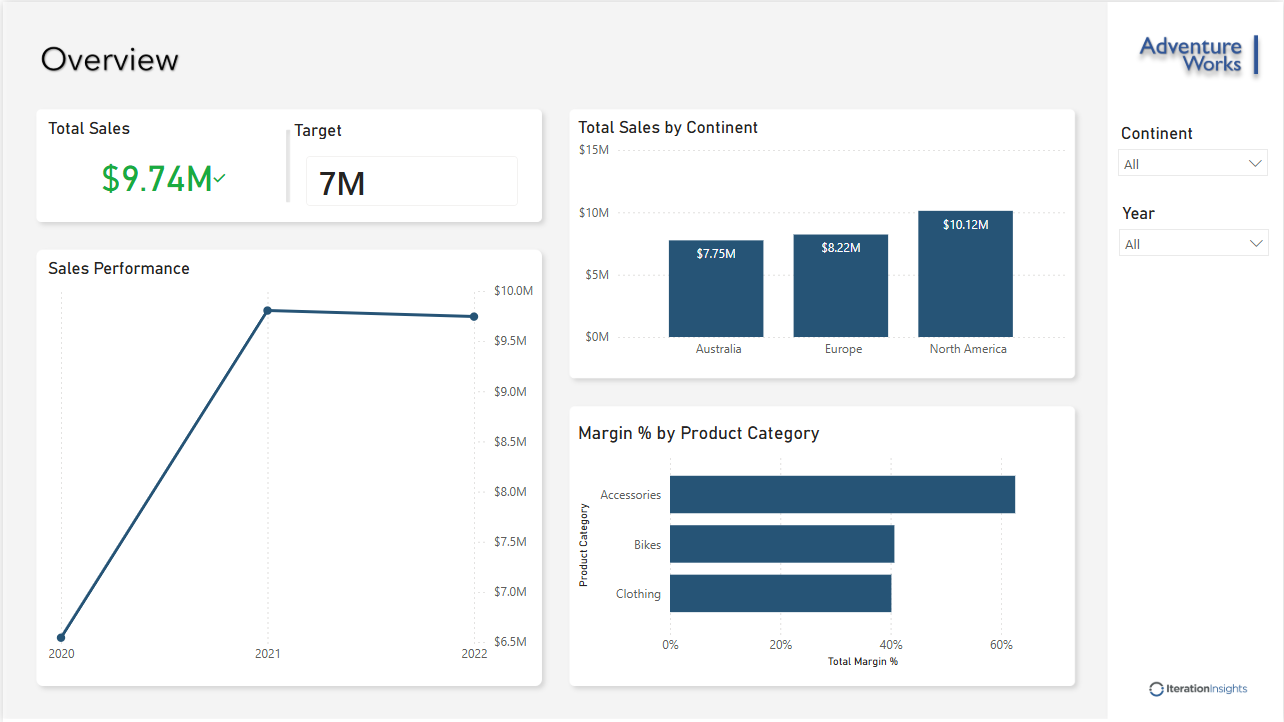

This screenshot's page, from the dashboard's own definition file:
{"tool":"powerbi","page":{"name":"Overview","canvas":[1280,720],"ordinal":0},"visuals":[{"type":"slicer","title":"Slicer Year","fields":{"Values":["Order Date.Order Date Year"]},"box":[1105.7,195.7,170,80],"z":6000},{"type":"slicer","title":"Slicer Continent","fields":{"Values":["Sales Territory.Sales Territory Continent"]},"box":[1105,115.7,170,70],"z":6015},{"type":"clusteredBarChart","title":"Margin % by Product Category","fields":{"Category":["Product.Product Hierarchy.Product Category","Product.Product Hierarchy.Product Subcategory"],"Y":["Sales.Total Margin %"]},"box":[570,420,500,250],"z":6031},{"type":"lineChart","title":"Sales Performance","fields":{"Category":["Order Date.Order Date Hierarchy.Order Date Year","Order Date.Order Date Hierarchy.Order Date Month","Order Date.Order Date Hierarchy.Order Date"],"Y2":["Sales.Total Sales"]},"box":[40,255.7,495.7,414.3],"z":6062},{"type":"clusteredColumnChart","title":"Total Sales by Continent","fields":{"Category":["Sales Territory.Sales Territory Continent"],"Y":["Sales.Total Sales"]},"box":[570,115,500,250],"z":6125},{"type":"cardVisual","title":"Target","fields":{"Data":["Sales.Target"]},"box":[288.6,115.7,240,100],"z":6250},{"type":"kpi","title":"Total Sales","fields":{"Goal":["Sales.Target"],"Indicator":["Sales.Total Sales"],"TrendLine":["Order Date.Order Date Year"]},"box":[40,115.7,240,100],"z":7250}]}

Visuals, with their boxes in screenshot pixels (x1, y1, x2, y2), scaled from the page's 1280x720 canvas onto the 1284x722 screenshot:
"Slicer Year" slicer: select_region(1109, 196, 1280, 276)
"Slicer Continent" slicer: select_region(1108, 116, 1279, 186)
"Margin % by Product Category" clusteredBarChart: select_region(572, 421, 1073, 672)
"Sales Performance" lineChart: select_region(40, 256, 537, 672)
"Total Sales by Continent" clusteredColumnChart: select_region(572, 115, 1073, 366)
"Target" cardVisual: select_region(290, 116, 530, 216)
"Total Sales" kpi: select_region(40, 116, 281, 216)
